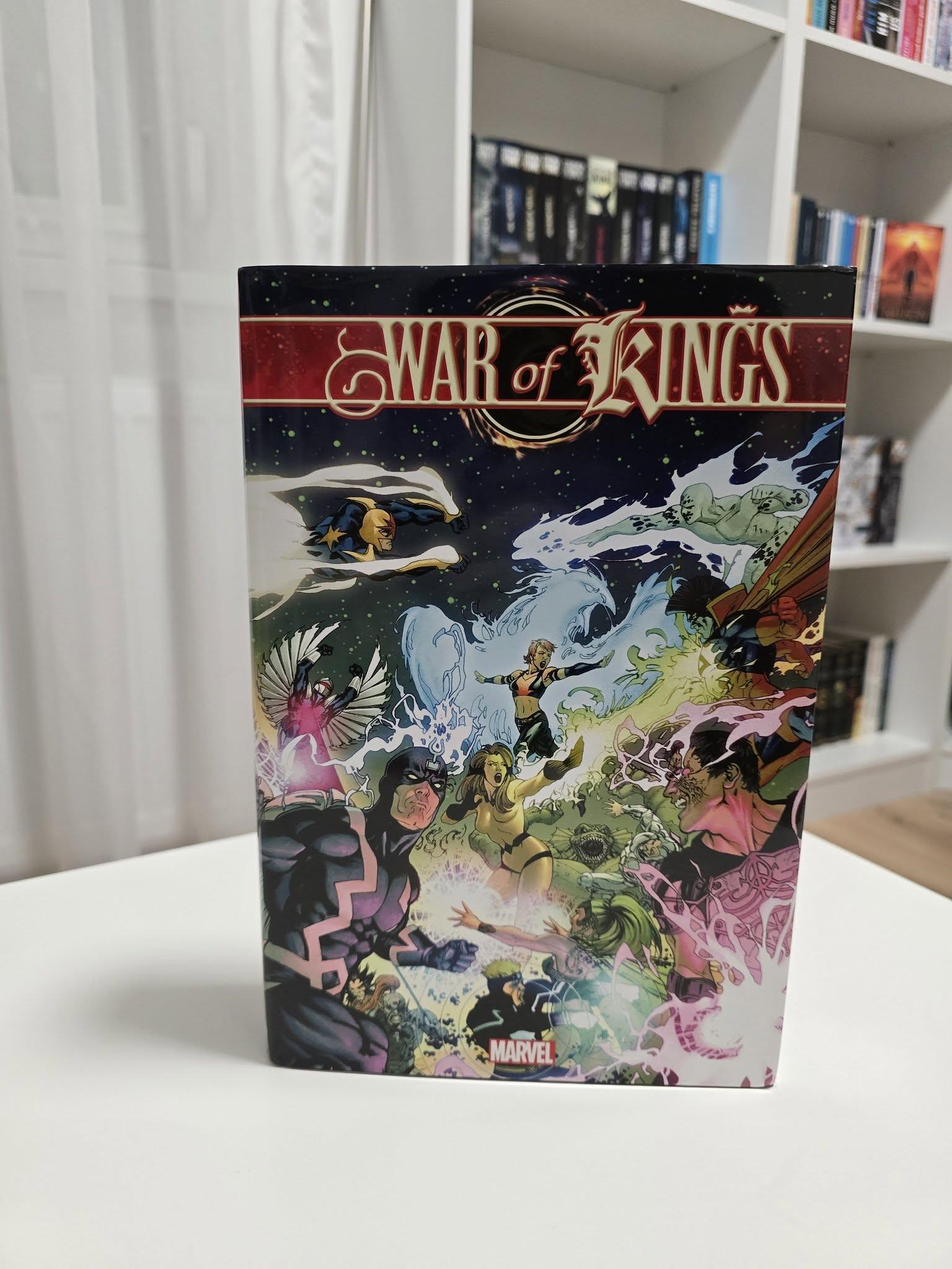comic: (224, 255, 854, 1087)
